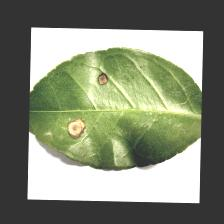canker: (52, 66, 118, 153)
